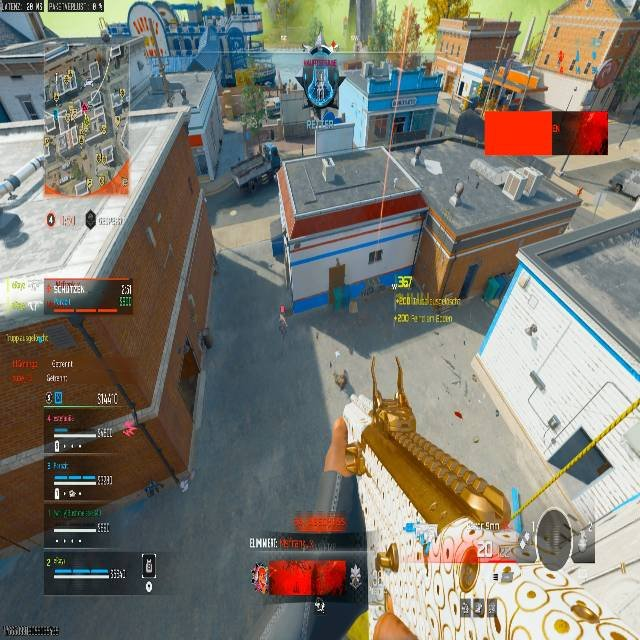player: (325, 367, 372, 529), (298, 39, 340, 120), (278, 313, 287, 336)
